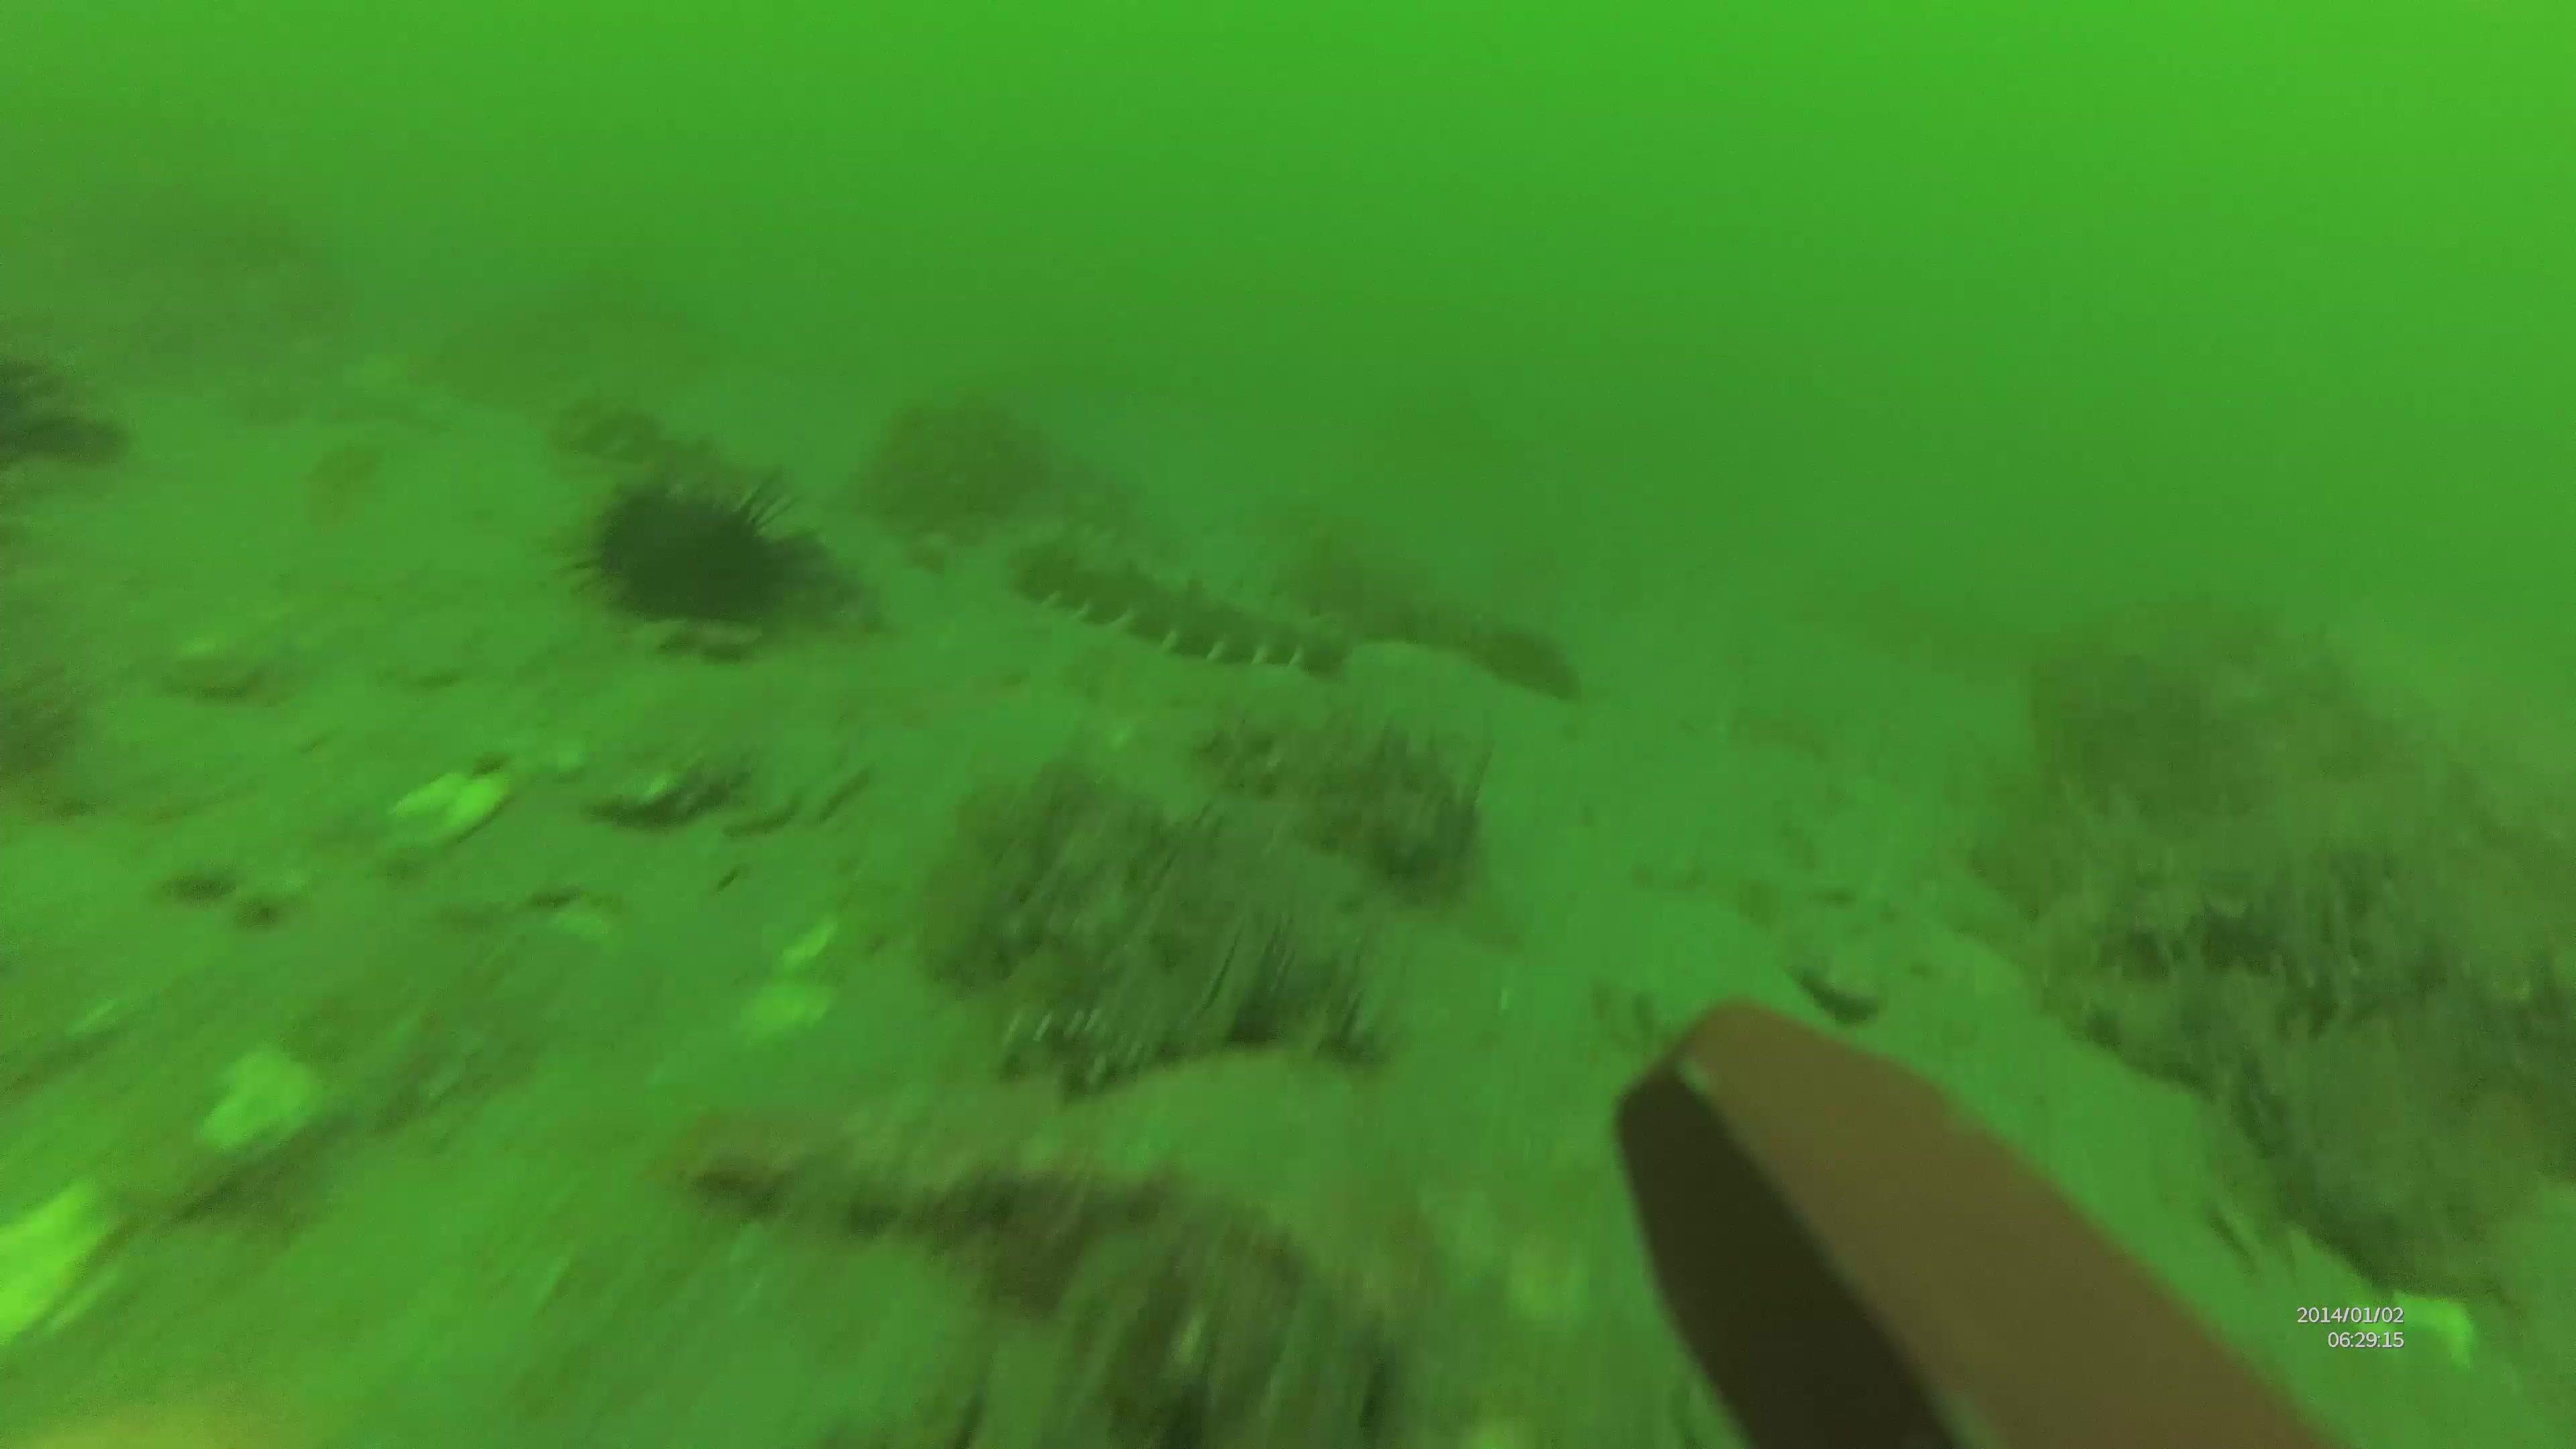echinus: (571, 472, 828, 632)
holothurian: (1001, 529, 1362, 688)
